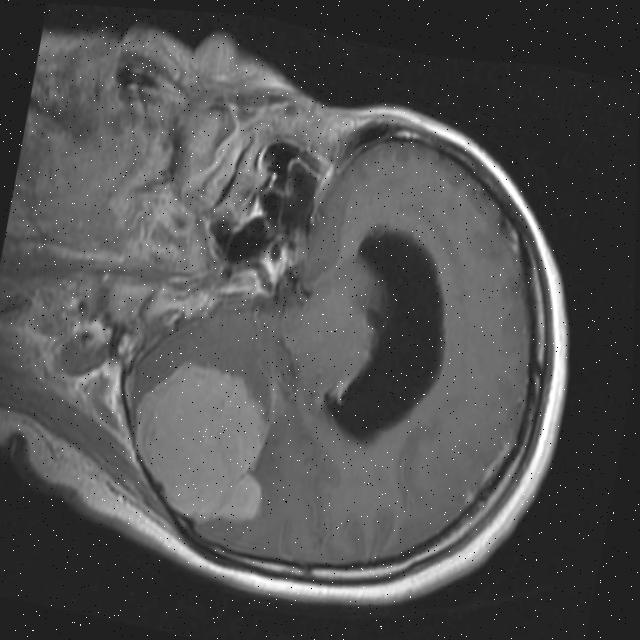Meningioma: (115, 348, 286, 539)
